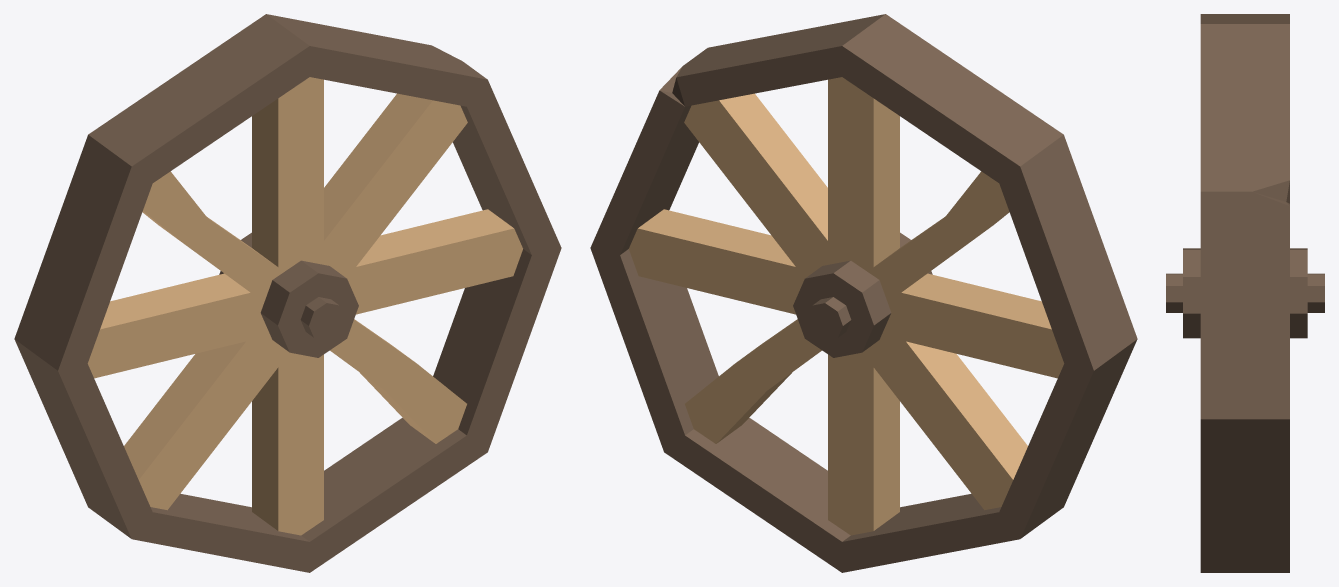
The model's file is Wheel_2.fbx.
3 renders of one model, left to right at view 1: azimuth 30°, elevation 25°; view 2: azimuth 150°, elevation 25°; view 3: azimuth 270°, elevation 25°, orthographic. The views are drawn at different scales.
Parts seen in each view (by area): view 1: Wheel_2; view 2: Wheel_2; view 3: Wheel_2.
Boxes of the visible parts, x1,y1,x2,y2 form: Wheel_2: [14, 14, 561, 572]; Wheel_2: [590, 14, 1137, 572]; Wheel_2: [1166, 14, 1324, 572].
Size of the model in its own units: 137 by 36.56 by 137.
